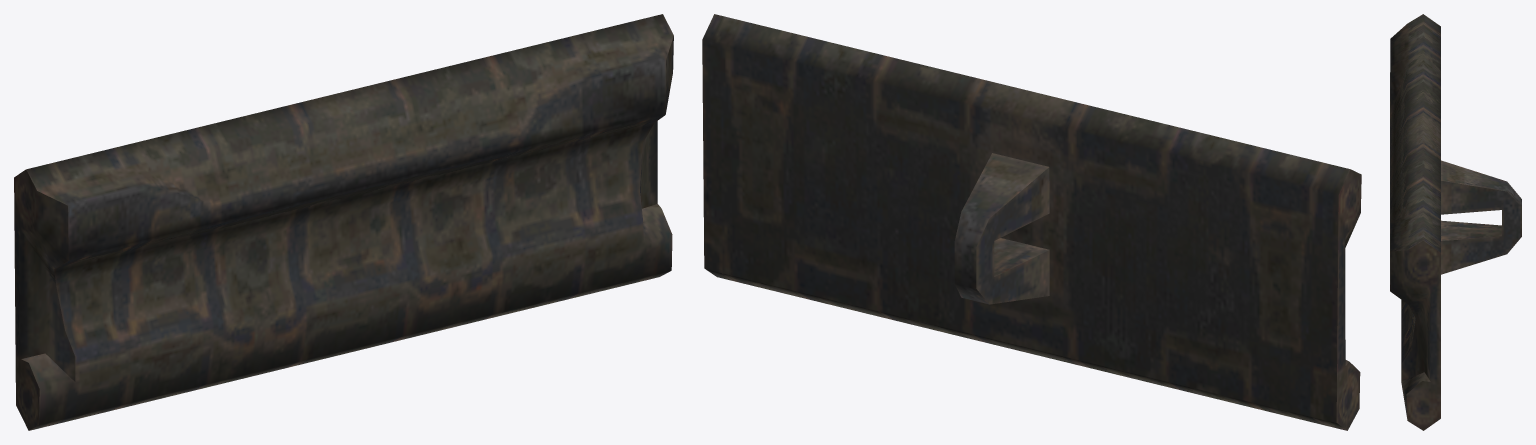
3 views of the same model, side by side, from view 1: azimuth 30°, elevation 25°; view 2: azimuth 150°, elevation 25°; view 3: azimuth 270°, elevation 25° (orthographic). The views are drawn at different scales.
Parts seen in each view (by area): view 1: set_0_group_0; view 2: set_0_group_0; view 3: set_0_group_0.
Part boxes in pixels (x1,y1,x2,y2): set_0_group_0: (14, 14, 673, 430); set_0_group_0: (702, 14, 1361, 430); set_0_group_0: (1390, 14, 1521, 430).
Size of the model in its own units: 0.418 by 0.1646 by 0.1027.
Materials: 1 (1 with a texture image).
